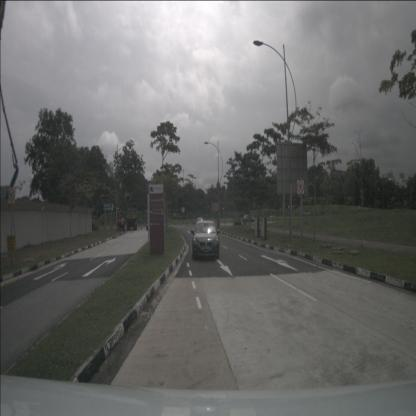movable_object-trafficcone: (130, 226, 133, 234)
vehicle-car: (192, 220, 220, 260), (243, 214, 255, 224), (146, 218, 154, 231), (196, 218, 203, 228)
vehicle-truck: (126, 208, 137, 230)
